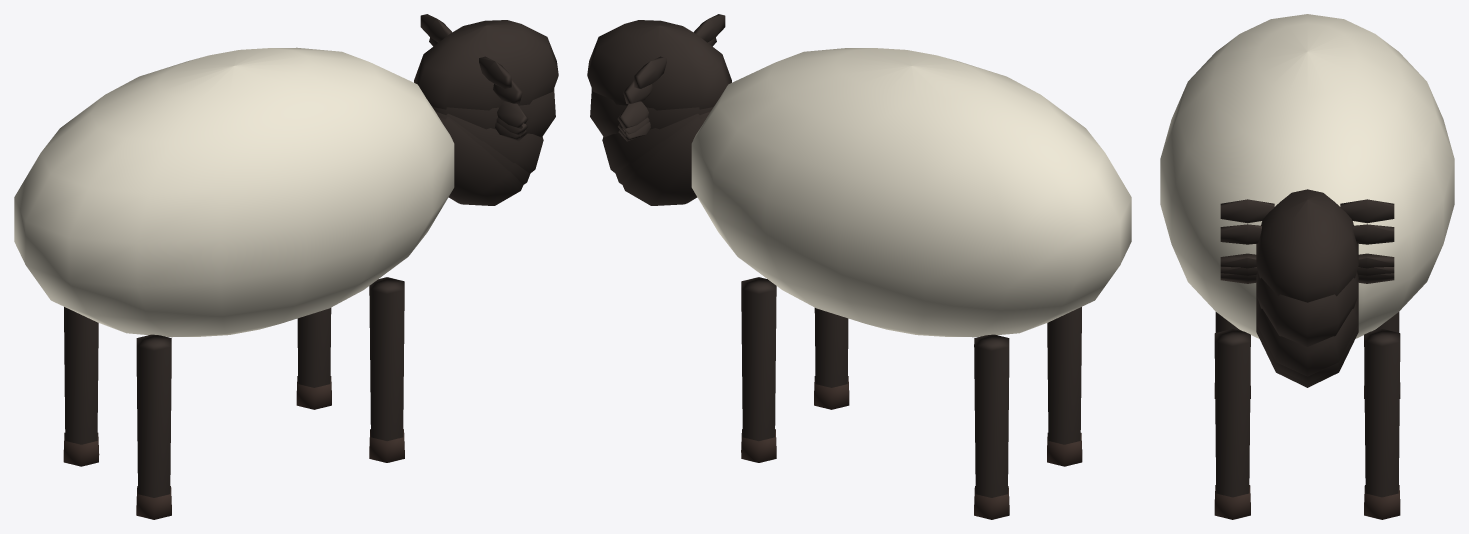
File: ovce.glb
3 renders of one model, left to right at view 1: azimuth 30°, elevation 25°; view 2: azimuth 150°, elevation 25°; view 3: azimuth 270°, elevation 25°, orthographic. The views are drawn at different scales.
Parts seen in each view (by area): view 1: ovce_telo_00, ovce_hlava_00, ovce_hlava_03, ovce_hlava_02, ovce_hlava_01, ovce_hlava_04; view 2: ovce_telo_00, ovce_hlava_00, ovce_hlava_03, ovce_hlava_02, ovce_hlava_01, ovce_hlava_04; view 3: ovce_telo_00, ovce_hlava_00, ovce_hlava_01, ovce_hlava_02, ovce_hlava_04, ovce_hlava_03.
Boxes of the visible parts, x1,y1,x2,y2 form: ovce_telo_00: [14, 47, 454, 519]; ovce_hlava_00: [414, 14, 558, 110]; ovce_hlava_03: [439, 118, 527, 205]; ovce_hlava_02: [435, 101, 543, 173]; ovce_hlava_01: [429, 37, 555, 137]; ovce_hlava_04: [438, 116, 530, 184]; ovce_telo_00: [691, 48, 1131, 519]; ovce_hlava_00: [587, 14, 731, 110]; ovce_hlava_03: [618, 118, 706, 205]; ovce_hlava_02: [602, 101, 710, 173]; ovce_hlava_01: [590, 37, 716, 137]; ovce_hlava_04: [615, 116, 707, 184]; ovce_telo_00: [1160, 14, 1454, 519]; ovce_hlava_00: [1220, 189, 1394, 302]; ovce_hlava_01: [1220, 224, 1394, 346]; ovce_hlava_02: [1220, 253, 1394, 376]; ovce_hlava_04: [1220, 267, 1394, 383]; ovce_hlava_03: [1220, 273, 1394, 387].
Size of the model in its own units: 1.05 by 0.74 by 0.4924.
1 material, 1 textured.
